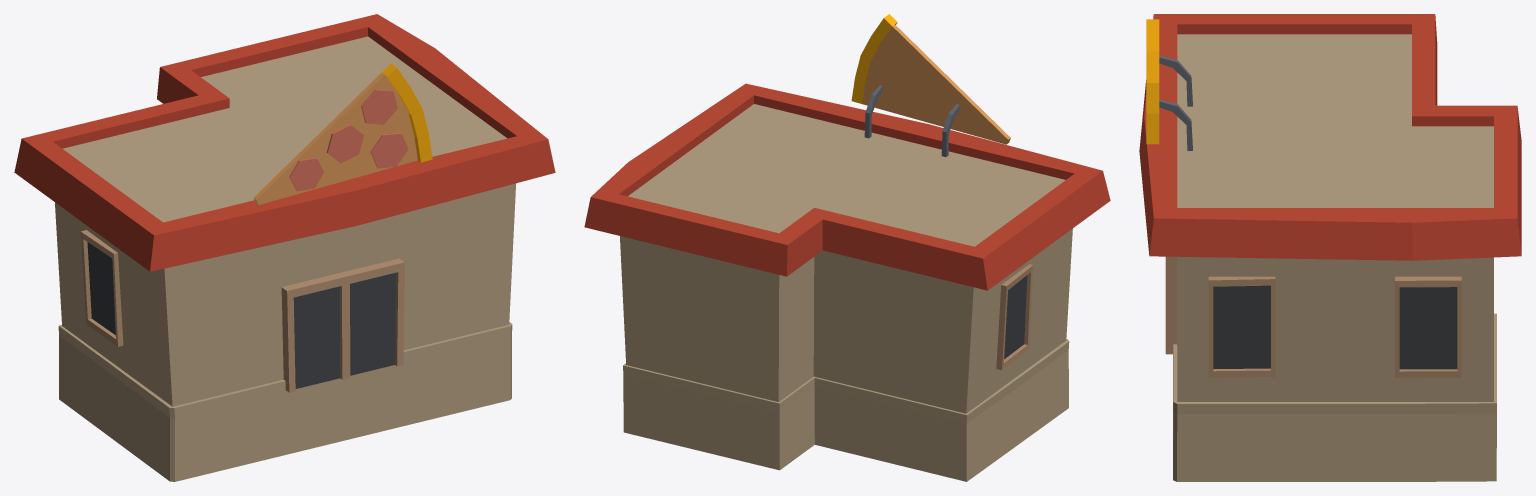
File: Building_Pizzeria.fbx
3 views of the same model, side by side, from view 1: azimuth 30°, elevation 25°; view 2: azimuth 150°, elevation 25°; view 3: azimuth 270°, elevation 25° (orthographic). The views are drawn at different scales.
Parts seen in each view (by area): view 1: Building_Pizzeria; view 2: Building_Pizzeria; view 3: Building_Pizzeria.
Part boxes in pixels (box(x1,y1,x2,y2)): Building_Pizzeria: box(14, 14, 555, 481); Building_Pizzeria: box(584, 14, 1110, 481); Building_Pizzeria: box(1139, 14, 1521, 481).
Bounding box in the file's own units: 1408 × 1210 × 1059.
